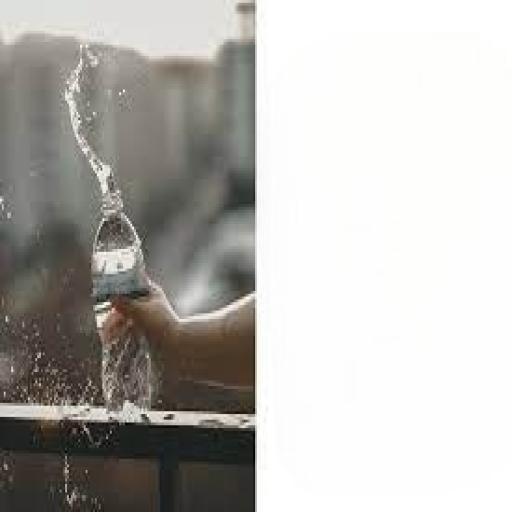bottle: (83, 180, 171, 421)
